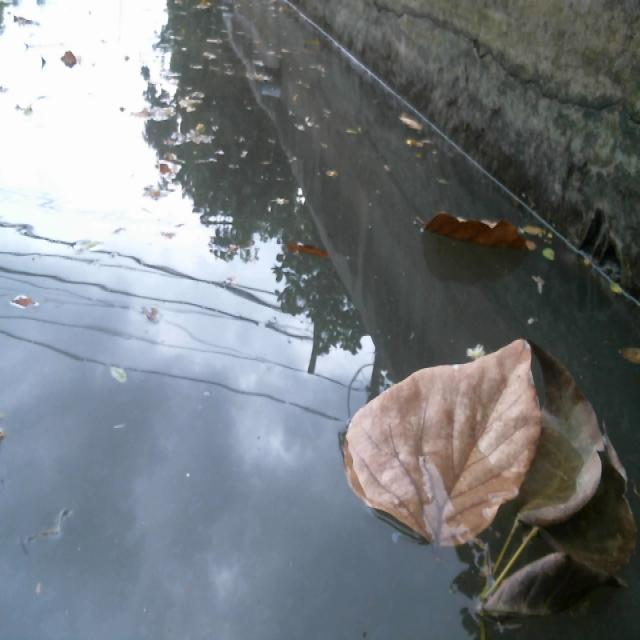Big-leaf: (318, 319, 639, 626), (408, 202, 532, 256)
Small-leaf: (282, 240, 351, 280), (529, 229, 564, 305), (0, 278, 45, 316), (399, 102, 430, 146), (102, 352, 125, 400), (625, 323, 640, 367), (613, 274, 624, 301)
